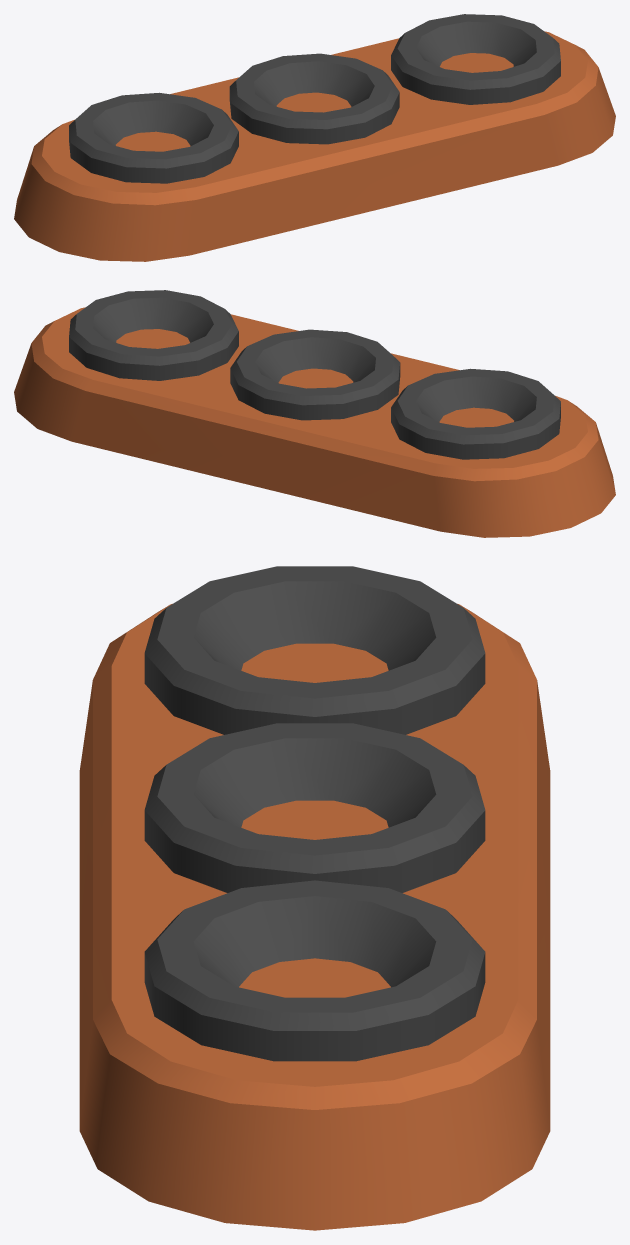
The model's file is env_building_pipeholder.fbx.
The picture shows the model from 3 angles, top to bottom: view 1: azimuth 30°, elevation 25°; view 2: azimuth 150°, elevation 25°; view 3: azimuth 270°, elevation 25°; orthographic projection. The views are drawn at different scales.
Parts seen in each view (by area): view 1: polySurface297; view 2: polySurface297; view 3: polySurface297.
Part boxes in pixels (x1,y1,x2,y2): polySurface297: (14, 14, 615, 261); polySurface297: (14, 290, 615, 537); polySurface297: (79, 566, 550, 1230).
Size of the model in its own units: 0.6342 by 0.0856 by 0.2258.
